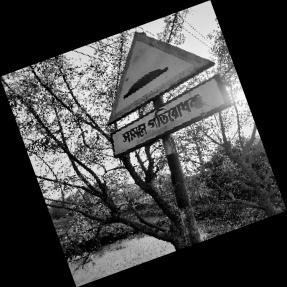Speed-breaker: (108, 31, 232, 158)
